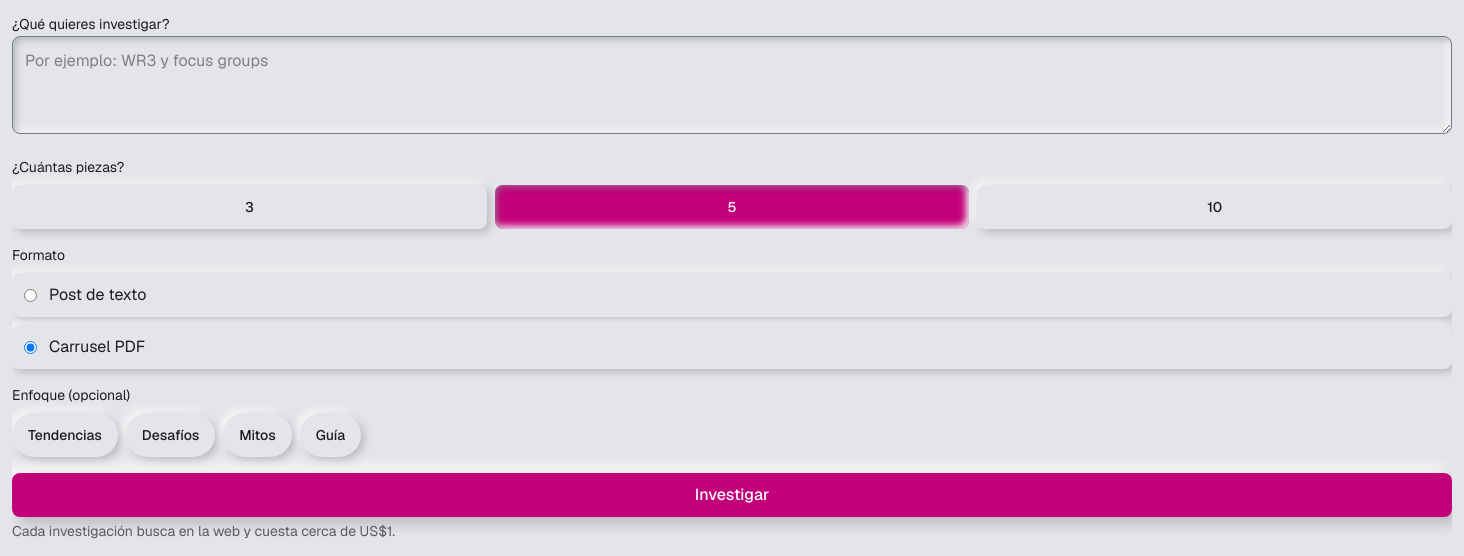
NuevaInvestigacion › closes the form once a research was asked for, so the new card is what shows
This screenshot has width=1464, height=556.
Type "WR3" into the text box labelled "¿Qué quieres investigar?" at (732, 85), box [12, 36, 1452, 134]
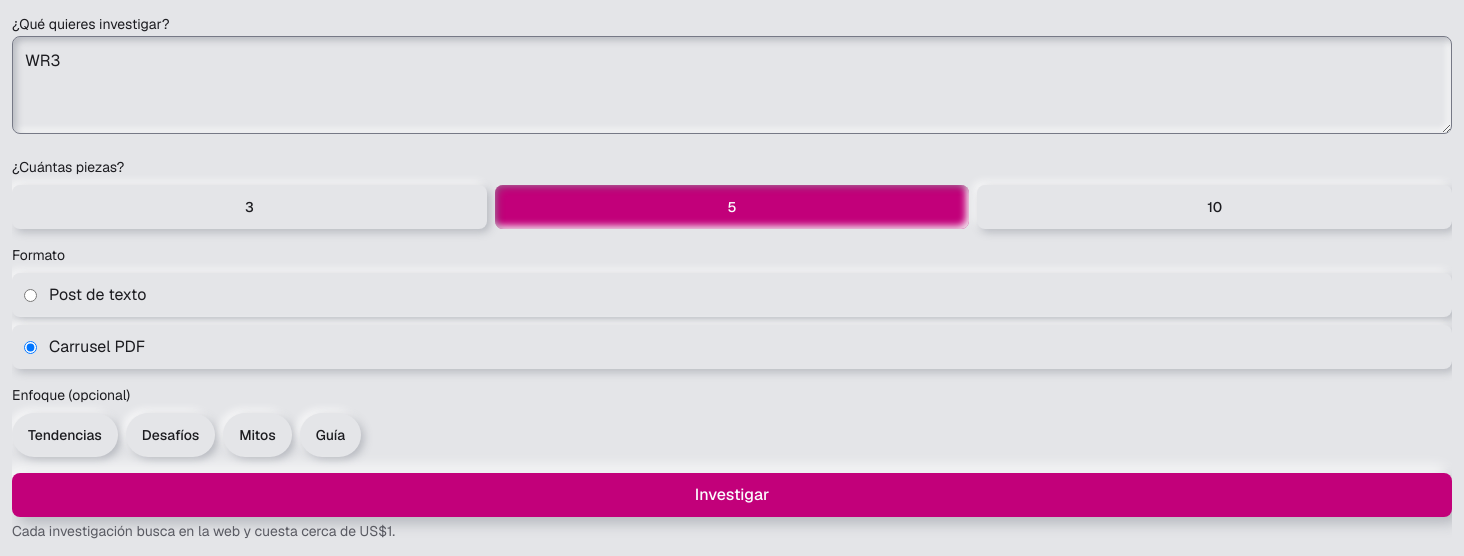
Click the button "Investigar" at (732, 495), box [12, 473, 1452, 517]
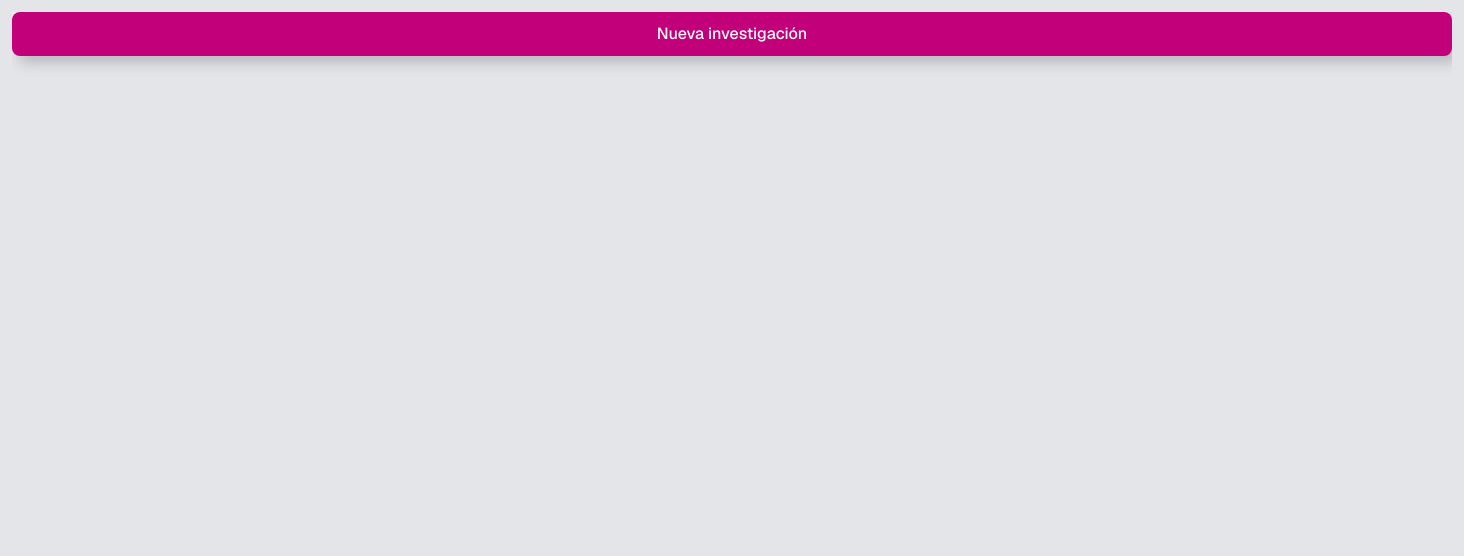
Check: the button "Nueva investigación" is shown, box [12, 12, 1452, 56]
Check: the text labelled "¿Qué quieres investigar?" is gone
